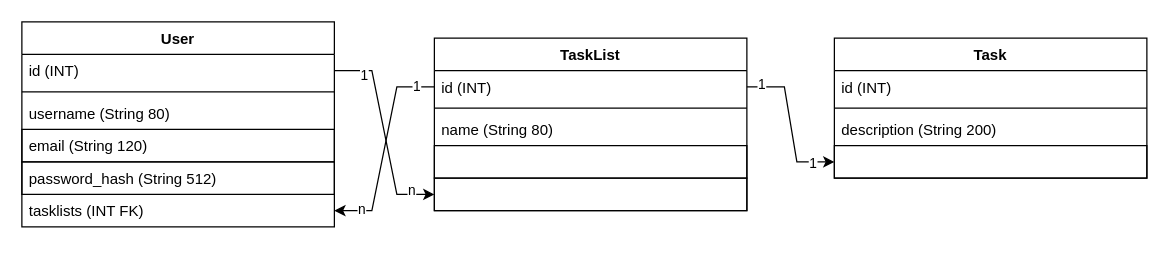
This 1169x253 diagram has some shape labels left out. Each missing label, with the box of its shape:
city (String 120): (433, 144, 747, 178)
tasklist_id (INT FK): (833, 144, 1147, 178)
user_id (INT FK): (433, 177, 747, 211)
